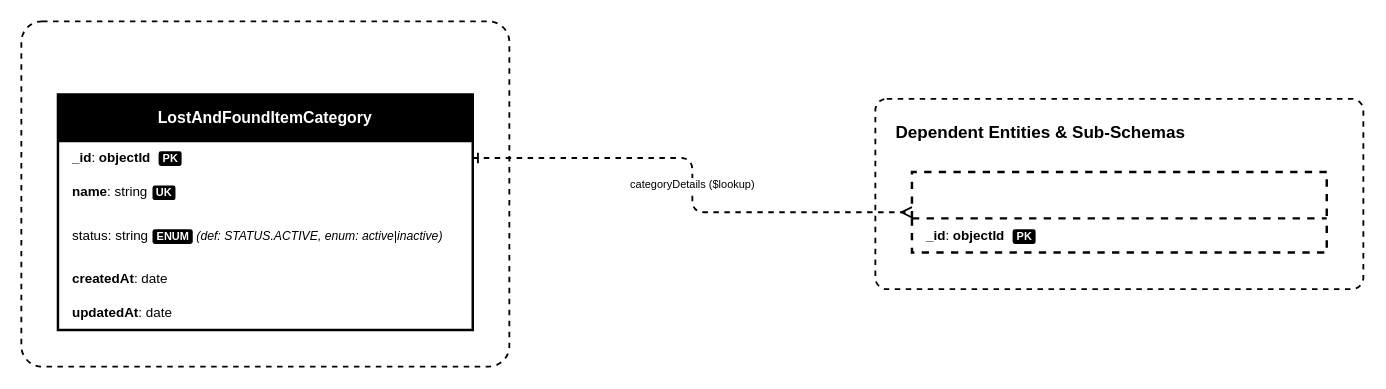
This 1386x389 diagram has some shape labels left out. Each missing label, with the box of its shape:
Core Module: LostAndFoundItemCategory: (20, 20, 510, 367)
LostFound: (910, 170, 1327, 253)
